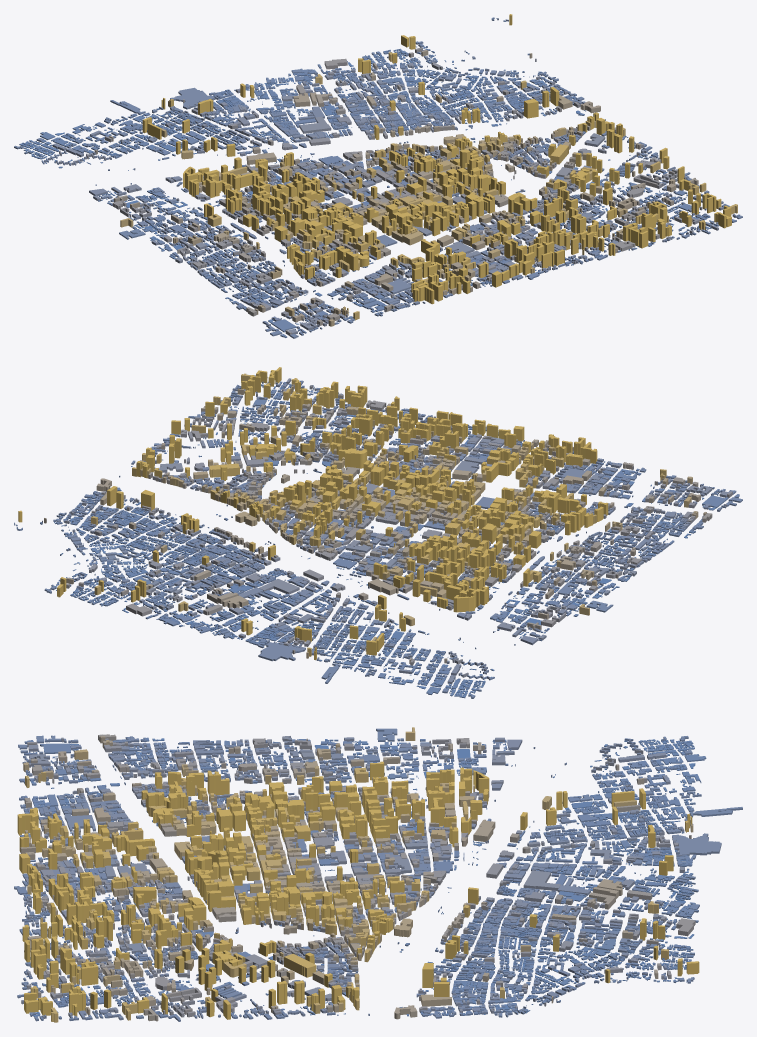
File: buildings.glb
The picture shows the model from 3 angles, top to bottom: view 1: azimuth 30°, elevation 25°; view 2: azimuth 150°, elevation 25°; view 3: azimuth 270°, elevation 25°; orthographic projection. The views are drawn at different scales.
Parts seen in each view (by area): view 1: buildings; view 2: buildings; view 3: buildings.
Part boxes in pixels (<box>): buildings: <box>14,14,742,338</box>; buildings: <box>14,367,742,698</box>; buildings: <box>14,727,742,1022</box>.
Size of the model in its own units: 2961 by 252 by 3059.
